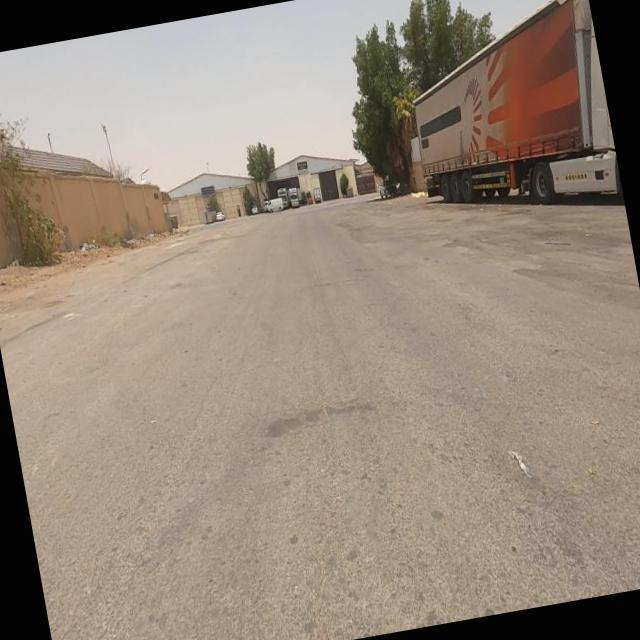debris: (51, 207, 117, 284), (110, 206, 178, 274)
